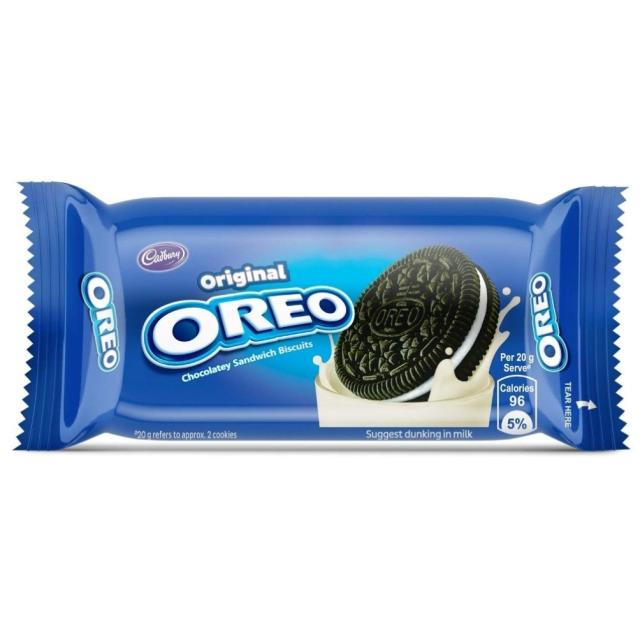oreo: (24, 188, 611, 434)
